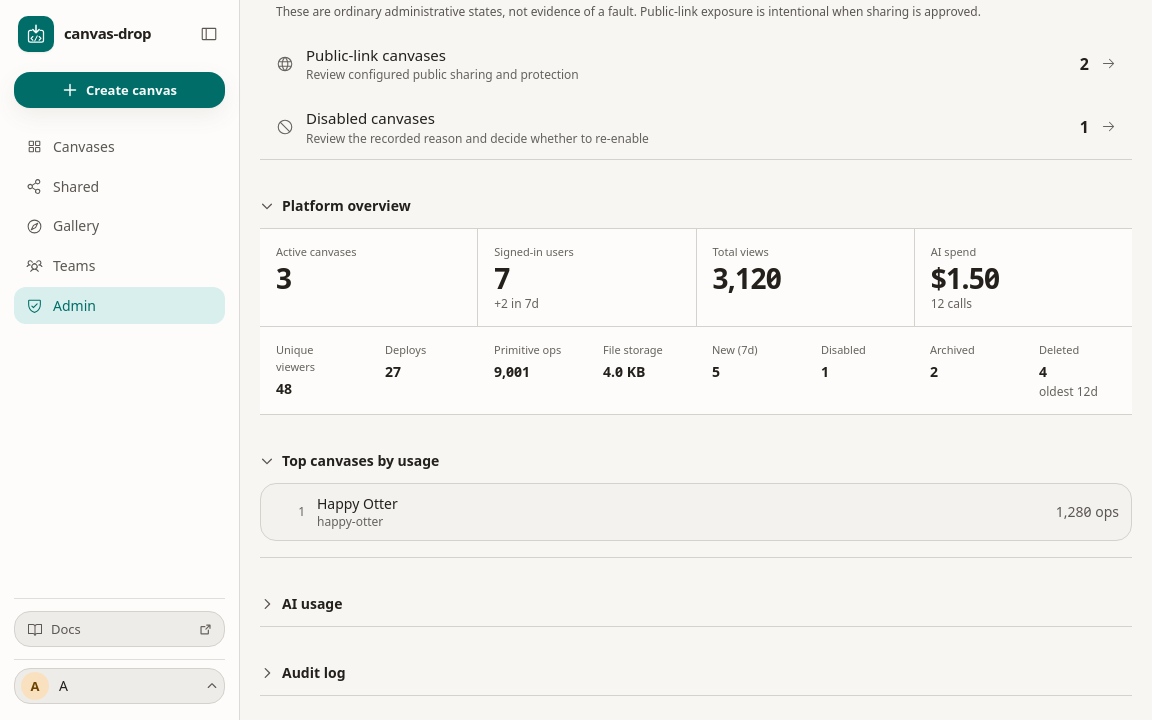
Test: admin dashboard › renders the AI spend tile and the by-canvas breakdown — no per-user spend (plan 006)
(page scrolled)
Expected: the text "AI spend" is shown, [931,244,976,258]
Expected: the text "$1.50" is shown, [931,258,999,296]
Click the button "AI usage": click(312, 603) [260,582,1132,626]
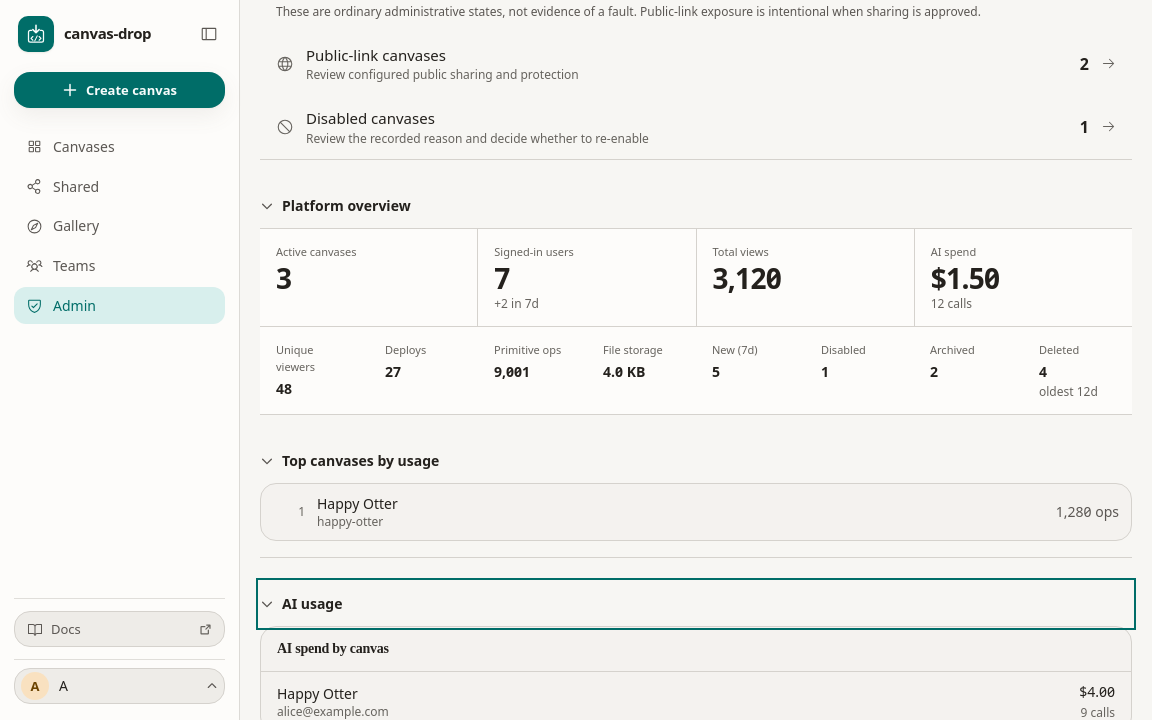
Expected: the heading "AI spend by canvas" is shown, [261,627,1131,672]
